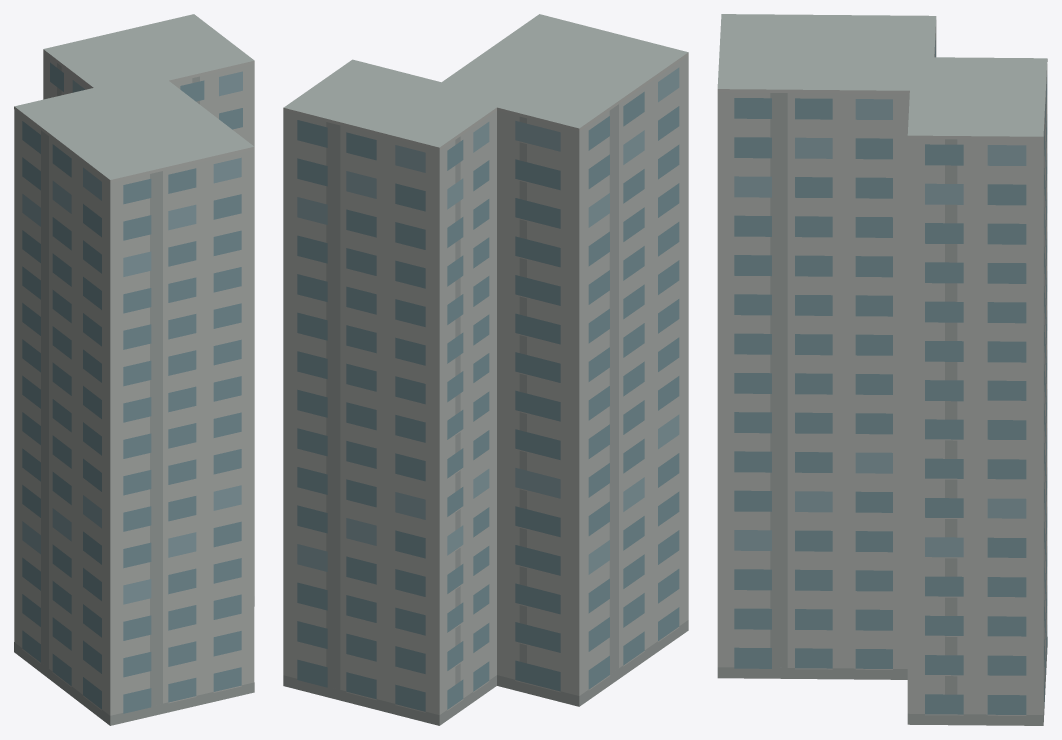
Rendered from residential-85dffe61-c4f8-4c13-9ebb-948037d5532c.glb.
The picture shows the model from 3 angles, left to right: view 1: azimuth 30°, elevation 25°; view 2: azimuth 150°, elevation 25°; view 3: azimuth 270°, elevation 25°; orthographic projection. The views are drawn at different scales.
Parts seen in each view (by area): view 1: residential-85dffe61-c4f8-4c13-9ebb-948037d5532c.tmp; view 2: residential-85dffe61-c4f8-4c13-9ebb-948037d5532c.tmp; view 3: residential-85dffe61-c4f8-4c13-9ebb-948037d5532c.tmp.
Boxes of the visible parts, x1,y1,x2,y2 form: residential-85dffe61-c4f8-4c13-9ebb-948037d5532c.tmp: [14, 14, 254, 725]; residential-85dffe61-c4f8-4c13-9ebb-948037d5532c.tmp: [283, 14, 688, 725]; residential-85dffe61-c4f8-4c13-9ebb-948037d5532c.tmp: [717, 14, 1047, 725].
Bounding box in the file's own units: 19.23 × 43 × 21.83.
